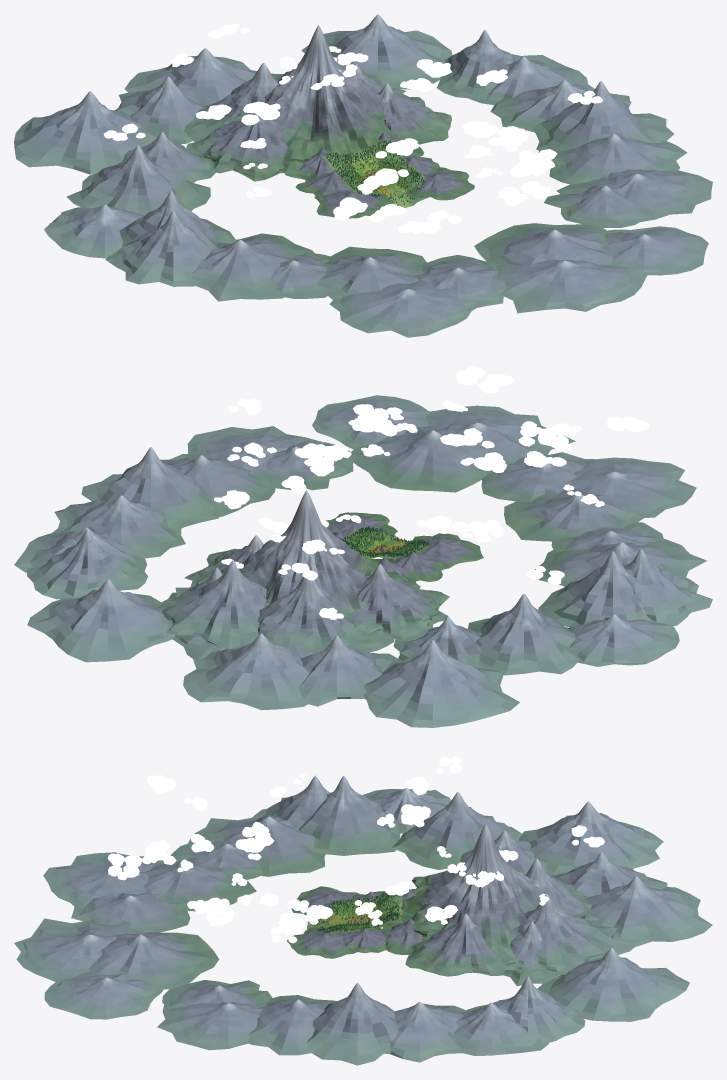
Rendered from village.glb.
The picture shows the model from 3 angles, top to bottom: view 1: azimuth 30°, elevation 25°; view 2: azimuth 150°, elevation 25°; view 3: azimuth 270°, elevation 25°; orthographic projection. The views are drawn at different scales.
Parts seen in each view (by area): view 1: Mountains, Clouds, Terrain, Forest; view 2: Mountains, Clouds, Terrain, Forest; view 3: Mountains, Clouds, Terrain, Forest.
Boxes of the visible parts, x1,y1,x2,y2 form: Mountains: [14, 14, 712, 337]; Clouds: [103, 23, 602, 233]; Terrain: [321, 138, 429, 207]; Forest: [324, 140, 426, 204]; Mountains: [14, 395, 712, 727]; Clouds: [214, 366, 648, 619]; Terrain: [340, 528, 430, 559]; Forest: [339, 526, 431, 557]; Mountains: [14, 775, 712, 1065]; Clouds: [108, 756, 604, 943]; Terrain: [307, 892, 403, 934]; Forest: [314, 893, 399, 932].
Size of the model in its own units: 3311 by 619 by 3545.
